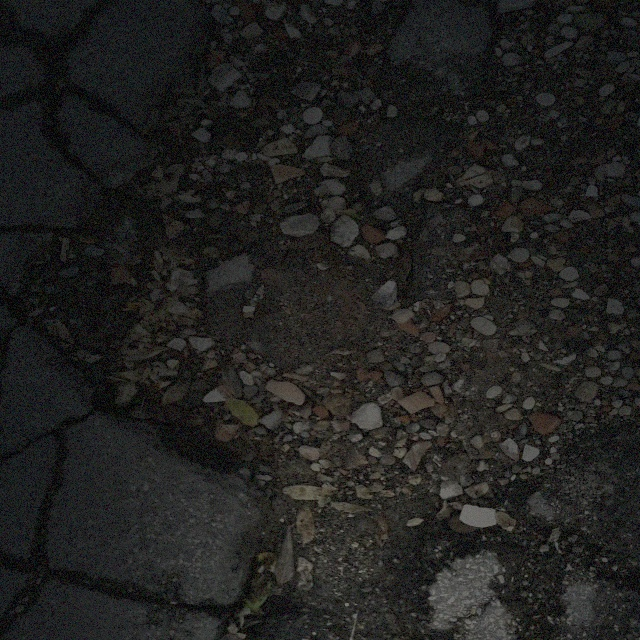pothole: (28, 138, 364, 481)
